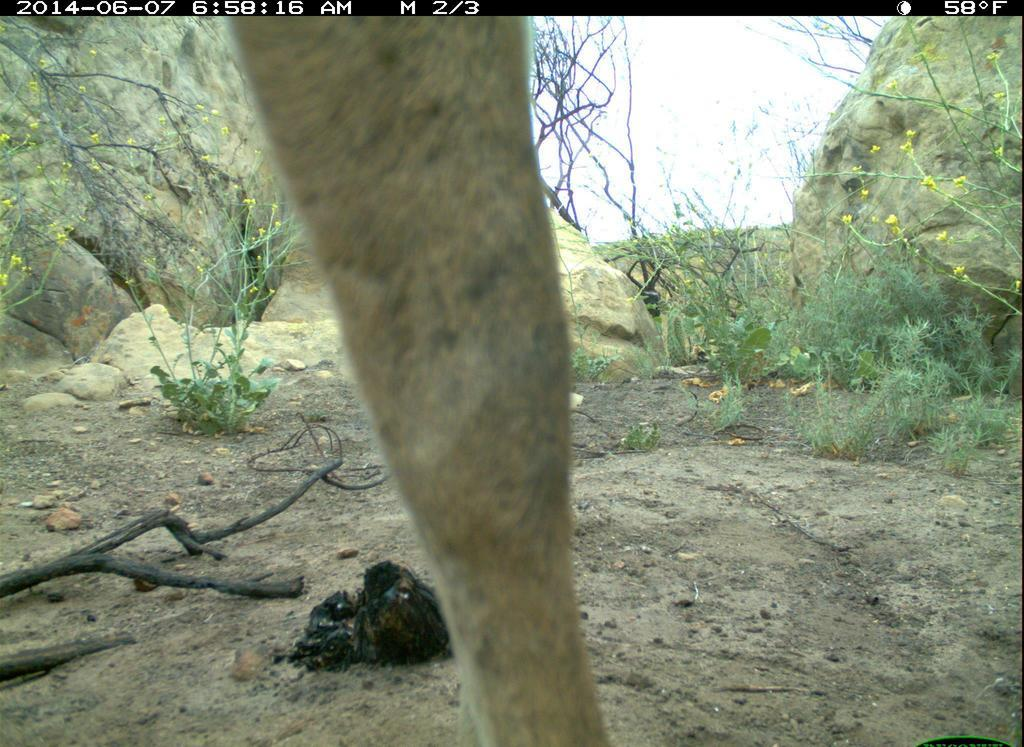deer: (226, 12, 612, 740)
